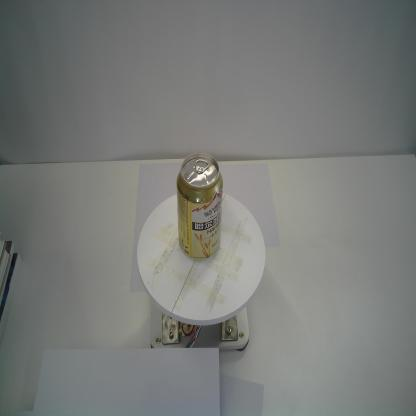Alcohol: (176, 152, 224, 262)
